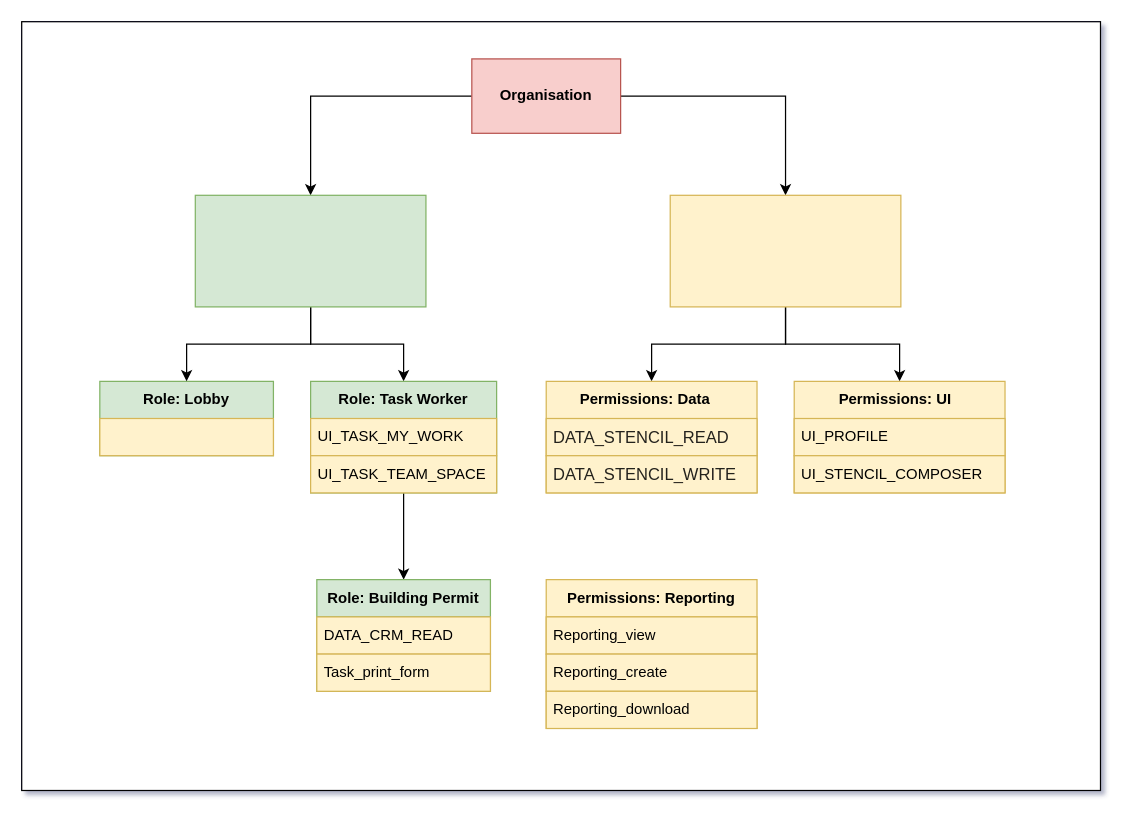
The diagram is 1130 pixels wide and 820 high, and some of its shapes have lost their labels. The centre of each missing label's shape, as x and y in pixels:
"No permissions" goes at point 186,436.
"System built-in Permissions" goes at point 785,250.
"System built-in Roles" goes at point 310,250.
